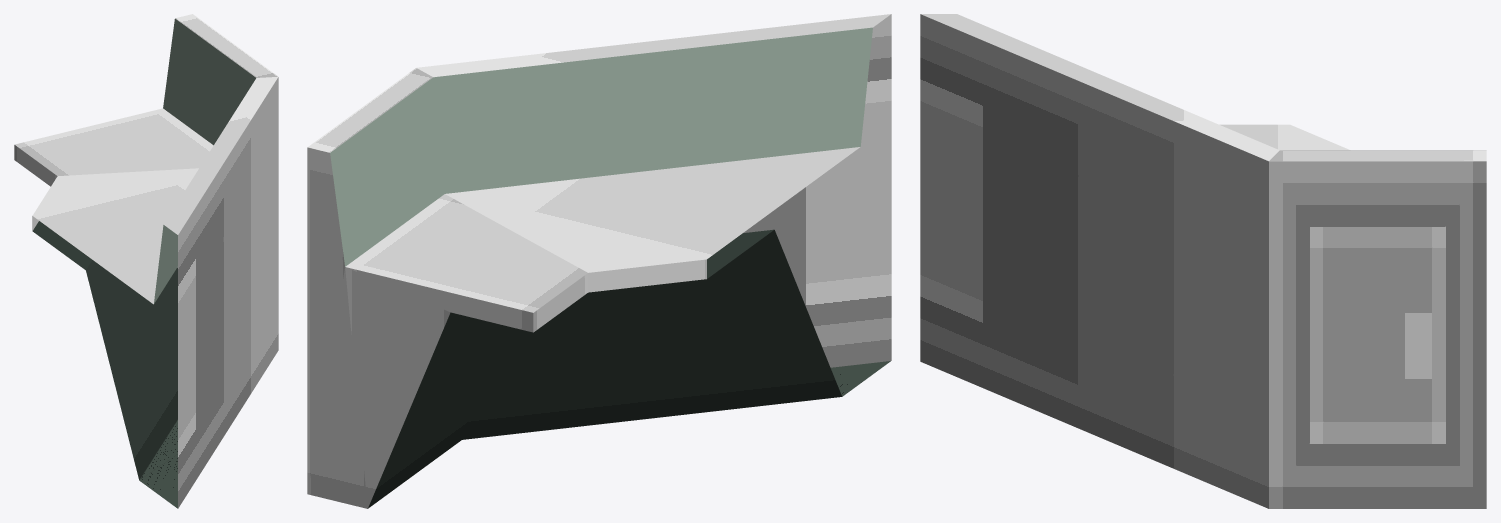
The model's file is run_desk_inside_bend_b_item.obj.
3 views of the same model, side by side, from view 1: azimuth 30°, elevation 25°; view 2: azimuth 150°, elevation 25°; view 3: azimuth 270°, elevation 25° (orthographic). The views are drawn at different scales.
Bounding box in the file's own units: 1 × 1.1 × 1.62.
